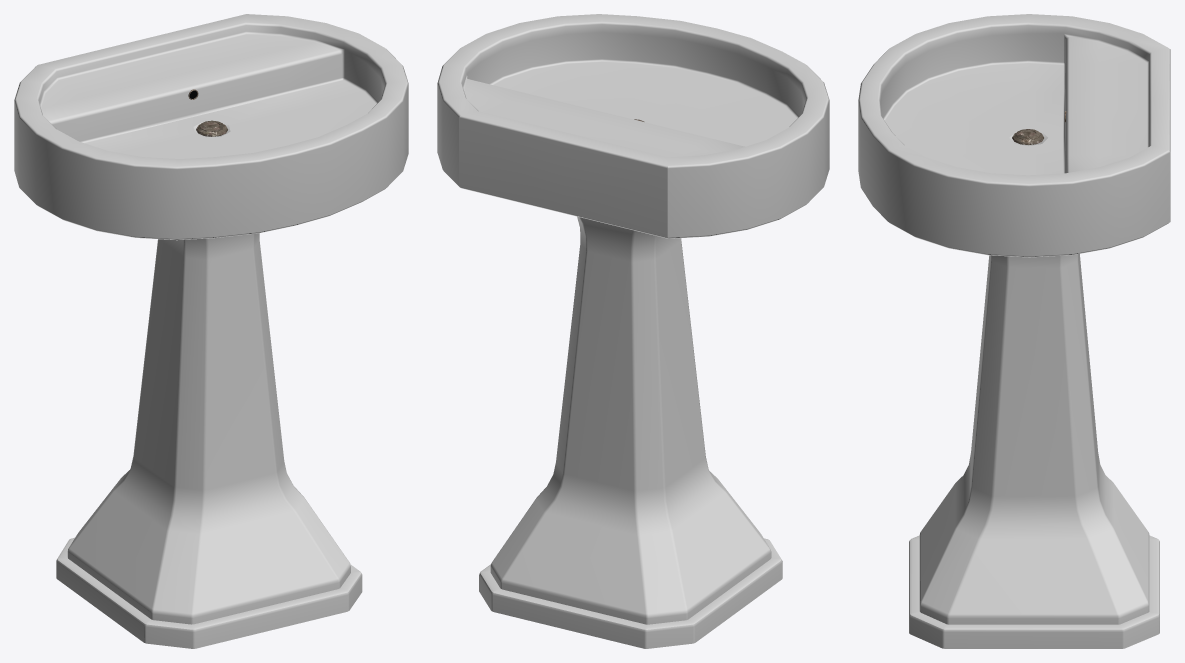
The model's file is bath_sink.glb.
3 renders of one model, left to right at view 1: azimuth 30°, elevation 25°; view 2: azimuth 150°, elevation 25°; view 3: azimuth 270°, elevation 25°, orthographic.
Visible parts, largest first — view 1: sink_20; view 2: sink_20; view 3: sink_20.
Part boxes in pixels (left/top/right/bottom): sink_20: left=14, top=14, right=408, bottom=648; sink_20: left=437, top=14, right=829, bottom=648; sink_20: left=858, top=14, right=1170, bottom=648.
Size of what is drawn, in the model's own units: 0.7227 by 0.9761 by 0.556.
Materials: 3 (1 with a texture image).
